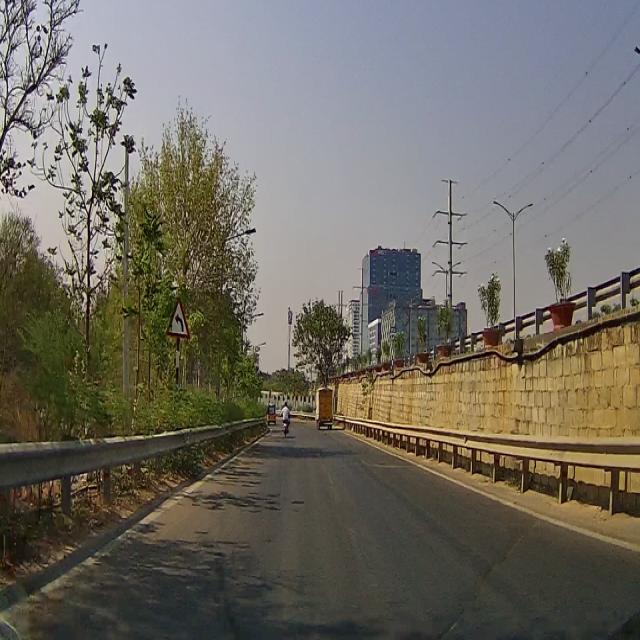left-hand-curve: (166, 300, 188, 336)
